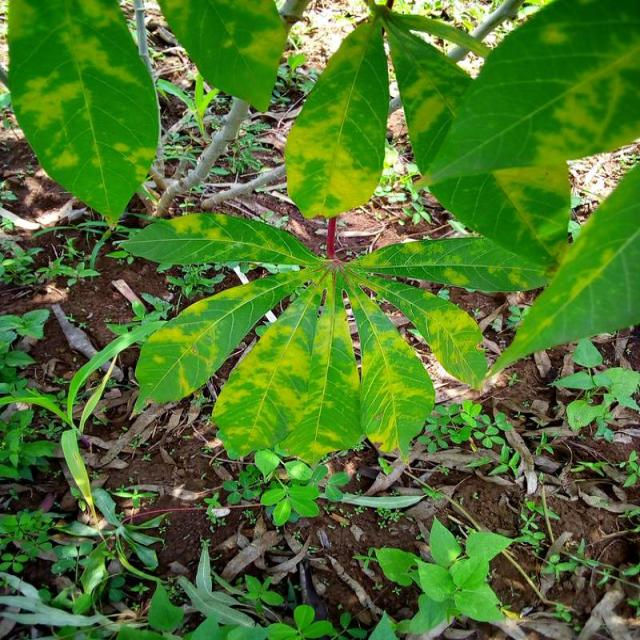cassava leaf: (415, 0, 638, 272), (5, 0, 160, 228), (485, 159, 638, 381), (210, 265, 366, 466), (283, 16, 390, 221), (155, 0, 287, 113)
